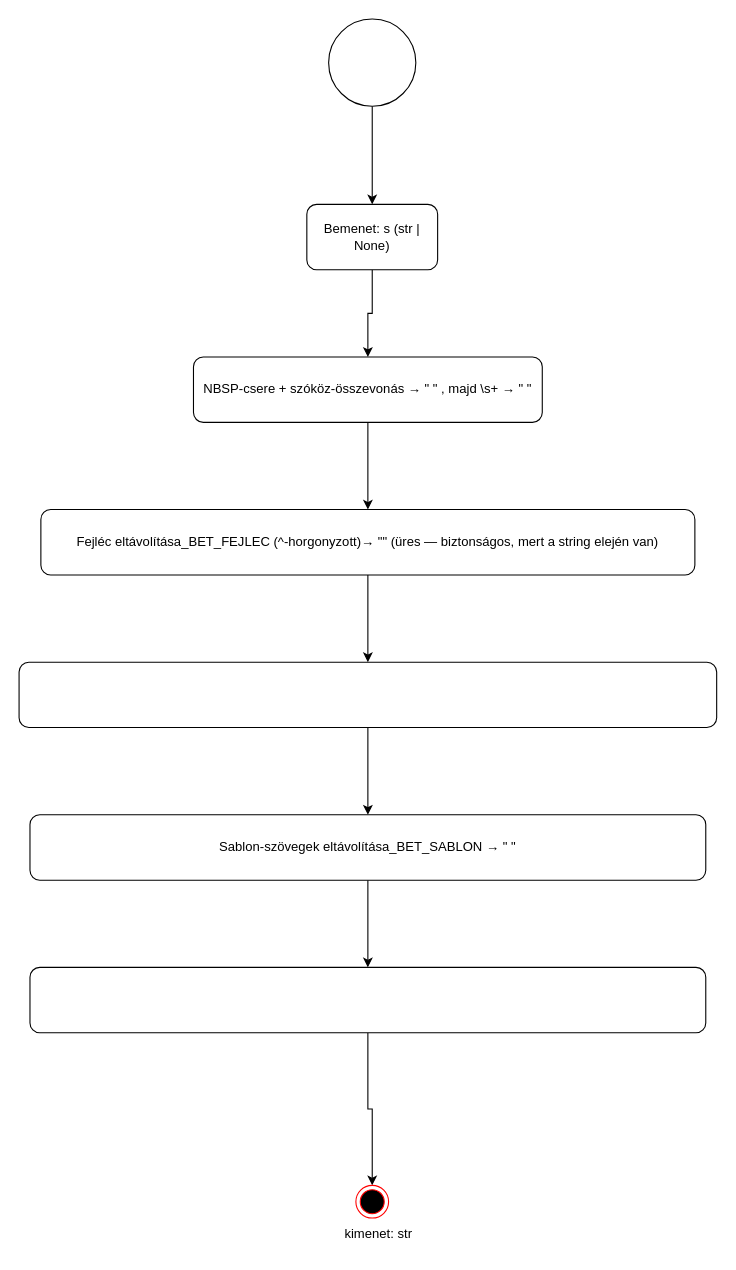
Some shapes in this 736 by 1270 pixel diagram are drawn without their labels. Each missing label, with the centre of its shape:
Csatolmány-lista eltávolítása_BET_CSATOLMANY → " ": point 367,694
Szóköz-összevonás + trim\s+ → " " , majd .strip(): point 367,999
